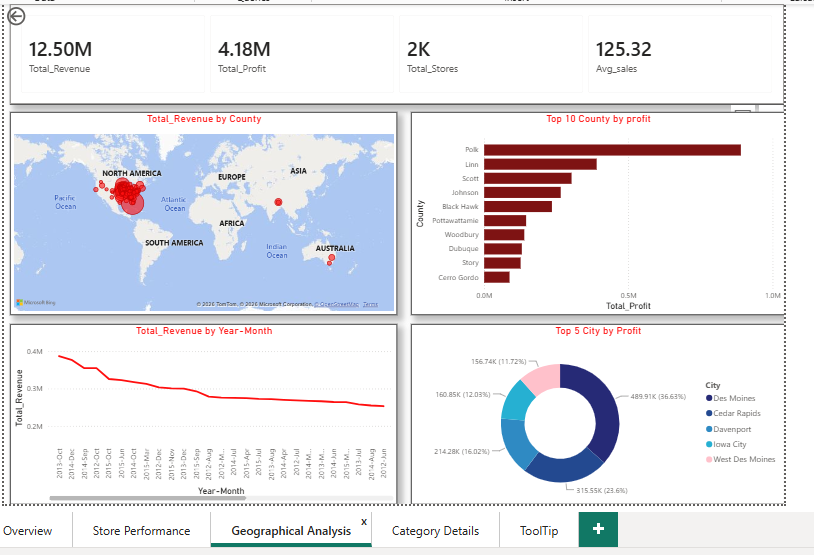

Layout of this report page (visuals, bound fields, positions):
{"tool":"powerbi","page":{"name":"Geographical Analysis","canvas":[1280,820],"ordinal":2},"visuals":[{"type":"cardVisual","fields":{"Data":["LiquorSales_dataset.Total_Revenue","LiquorSales_dataset.Total_Profit","LiquorSales_dataset.Total_Stores","LiquorSales_dataset.Avg_sales"]},"box":[10.1,0,1269.9,164.6],"z":0},{"type":"map","fields":{"Size":["LiquorSales_dataset.Total_Revenue"],"Category":["LiquorSales_dataset.County"]},"box":[10.1,176.4,635,332.6],"z":1},{"type":"clusteredBarChart","title":"Top 10 County by profit","fields":{"Y":["LiquorSales_dataset.Total_Profit"],"Category":["LiquorSales_dataset.County"]},"box":[666.9,176.4,613.1,332.6],"z":2},{"type":"lineChart","fields":{"Category":["DateTable.Year-Month"],"Y":["LiquorSales_dataset.Total_Revenue"]},"box":[10.1,524.1,635,295.6],"z":3},{"type":"donutChart","title":"Top 5 City by Profit","fields":{"Category":["LiquorSales_dataset.City"],"Y":["LiquorSales_dataset.Total_Profit"]},"box":[666.9,524.1,613.1,295.6],"z":4},{"type":"actionButton","box":[0,0,100,40],"z":5}]}

Visuals, with their boxes on the page's 1280x820 design canvas (x1, y1, x2, y2). These are canvas units, not pixel positions in the 814x555 screenshot, which may show the page scaled, cropped or inside an application window:
cardVisual - LiquorSales_dataset.Total_Revenue x LiquorSales_dataset.Total_Profit: {"left": 10, "top": 0, "right": 1280, "bottom": 165}
map - LiquorSales_dataset.Total_Revenue x LiquorSales_dataset.County: {"left": 10, "top": 176, "right": 645, "bottom": 509}
"Top 10 County by profit" clusteredBarChart: {"left": 667, "top": 176, "right": 1280, "bottom": 509}
lineChart - DateTable.Year-Month x LiquorSales_dataset.Total_Revenue: {"left": 10, "top": 524, "right": 645, "bottom": 820}
"Top 5 City by Profit" donutChart: {"left": 667, "top": 524, "right": 1280, "bottom": 820}
actionButton: {"left": 0, "top": 0, "right": 100, "bottom": 40}
